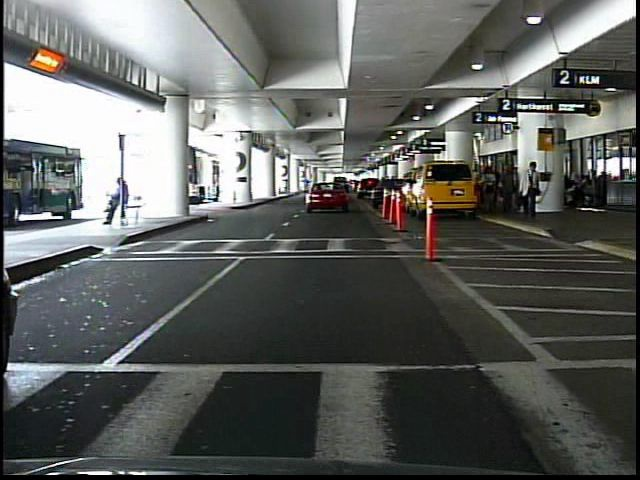person: (519, 159, 543, 217), (499, 163, 517, 219), (483, 166, 497, 210)
